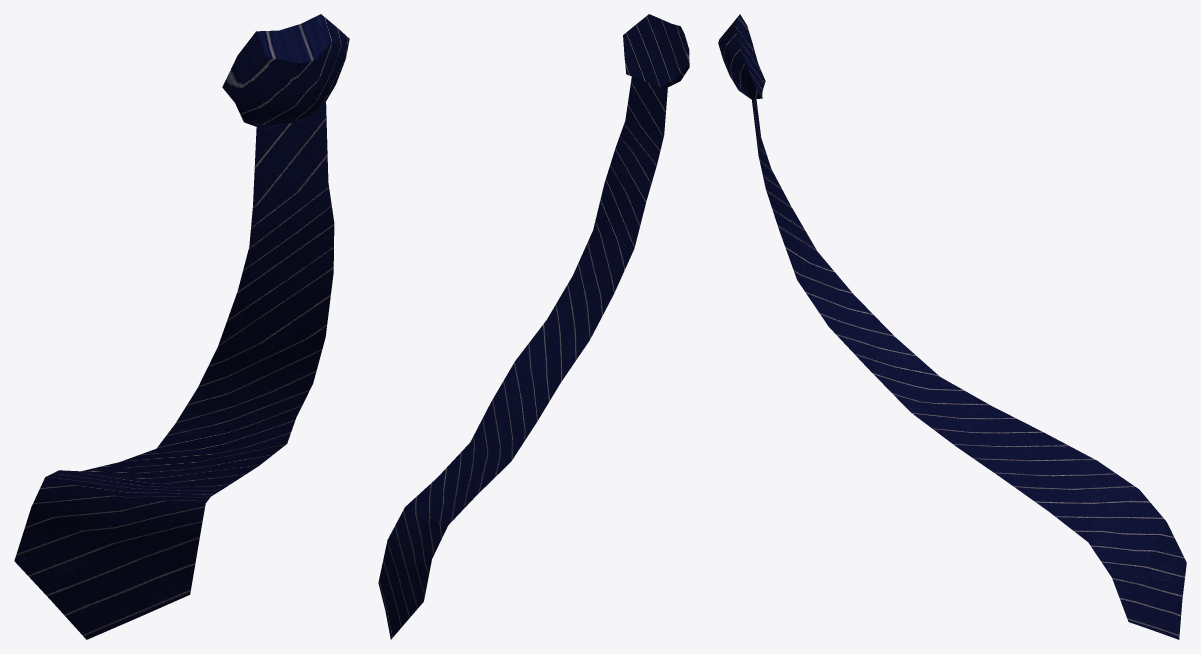
File: Pose-11_SuitTie-4.fbx
3 views of the same model, side by side, from view 1: azimuth 30°, elevation 25°; view 2: azimuth 150°, elevation 25°; view 3: azimuth 270°, elevation 25° (orthographic). The views are drawn at different scales.
Parts seen in each view (by area): view 1: Pose-11_SuitTie-4; view 2: Pose-11_SuitTie-4; view 3: Pose-11_SuitTie-4.
Part boxes in pixels (x1,y1,x2,y2): Pose-11_SuitTie-4: (14, 14, 349, 639); Pose-11_SuitTie-4: (378, 14, 689, 639); Pose-11_SuitTie-4: (718, 14, 1186, 639).
Size of the model in its own units: 12.04 by 39.32 by 29.1.
